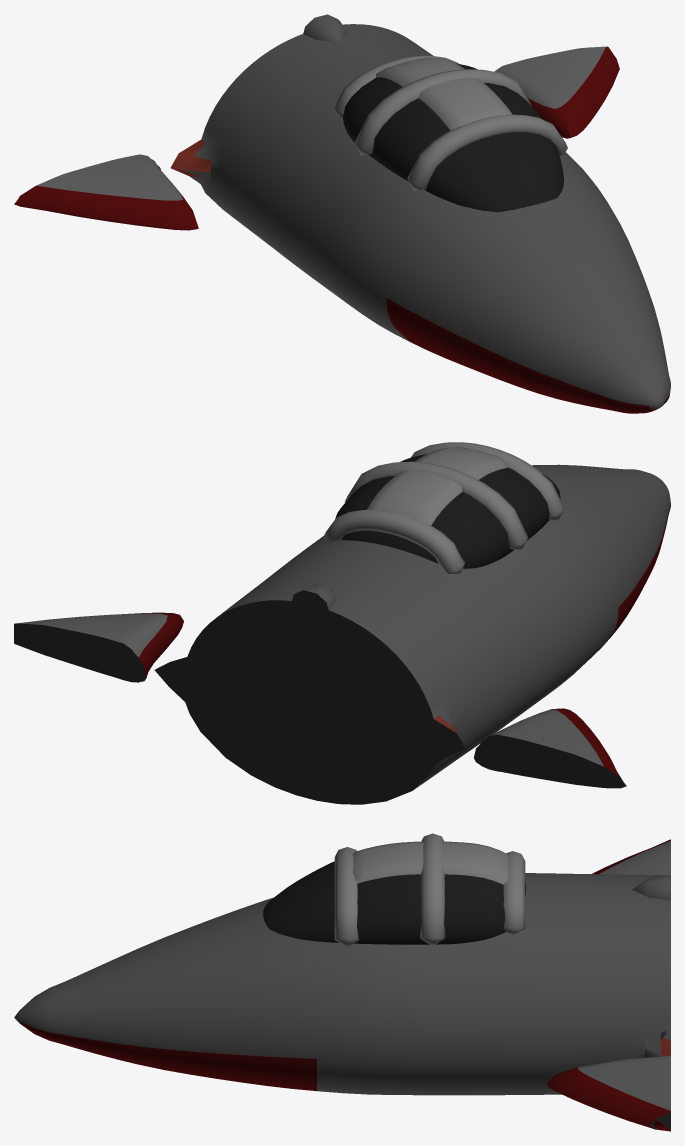
The model's file is redjet_nose.glb.
The picture shows the model from 3 angles, top to bottom: view 1: azimuth 30°, elevation 25°; view 2: azimuth 150°, elevation 25°; view 3: azimuth 270°, elevation 25°; orthographic projection. The views are drawn at different scales.
Parts seen in each view (by area): view 1: hull.001, canopy.001, wing_l.001, wing_r.001, canopy_spine.001, canopy_bow2.001, canopy_bow1.001, canopy_bow0.001, spine.001; view 2: hull.001, canopy.001, wing_r.001, wing_l.001, canopy_spine.001, canopy_bow0.001, canopy_bow1.001, canopy_bow2.001, spine.001; view 3: hull.001, canopy.001, wing_r.001, canopy_spine.001, canopy_bow1.001, canopy_bow2.001, canopy_bow0.001, wing_l.001, spine.001.
Part boxes in pixels (box(x1,y1,x2,y2)): hull.001: box(170, 24, 670, 413); canopy.001: box(343, 63, 563, 212); wing_l.001: box(14, 154, 198, 230); wing_r.001: box(494, 46, 619, 138); canopy_spine.001: box(376, 57, 512, 130); canopy_bow2.001: box(407, 114, 567, 190); canopy_bow1.001: box(354, 69, 531, 155); canopy_bow0.001: box(334, 55, 458, 117); spine.001: box(303, 14, 346, 42); hull.001: box(154, 464, 670, 804); canopy.001: box(335, 454, 560, 568); wing_r.001: box(14, 612, 183, 682); wing_l.001: box(474, 708, 626, 788); canopy_spine.001: box(367, 447, 508, 525); canopy_bow0.001: box(323, 509, 464, 573); canopy_bow1.001: box(345, 461, 528, 550); canopy_bow2.001: box(411, 442, 564, 520); spine.001: box(291, 584, 336, 624); hull.001: box(14, 873, 670, 1095); canopy.001: box(263, 861, 526, 944); wing_r.001: box(547, 1055, 670, 1131); canopy_spine.001: box(352, 841, 508, 884); canopy_bow1.001: box(420, 833, 445, 946); canopy_bow2.001: box(334, 847, 359, 947); canopy_bow0.001: box(503, 851, 525, 933); wing_l.001: box(592, 839, 670, 875); spine.001: box(632, 875, 670, 899).
Size of the model in its own units: 23.8 by 8.98 by 23.45.
